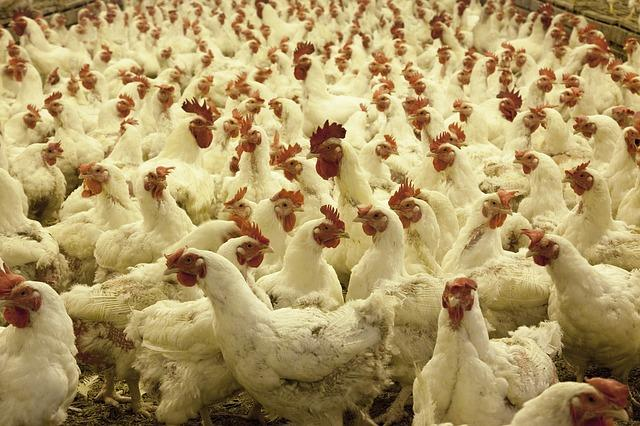chicken: (164, 247, 398, 420), (412, 281, 551, 422), (524, 228, 640, 368), (444, 188, 549, 322), (0, 267, 76, 422), (98, 164, 193, 274), (38, 163, 136, 253), (558, 164, 640, 263), (267, 208, 348, 305), (136, 107, 217, 187), (572, 114, 640, 203), (349, 203, 410, 298), (304, 122, 375, 199), (16, 141, 67, 223), (428, 135, 474, 202), (3, 106, 42, 154)
